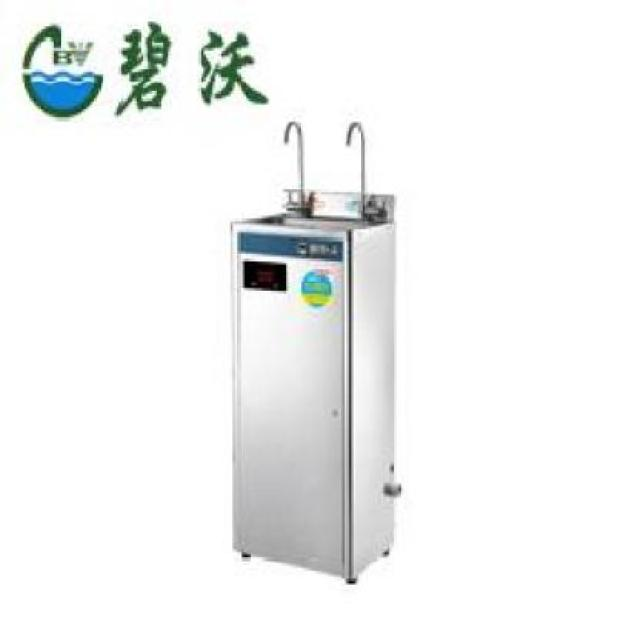cooler: (225, 111, 400, 591)
